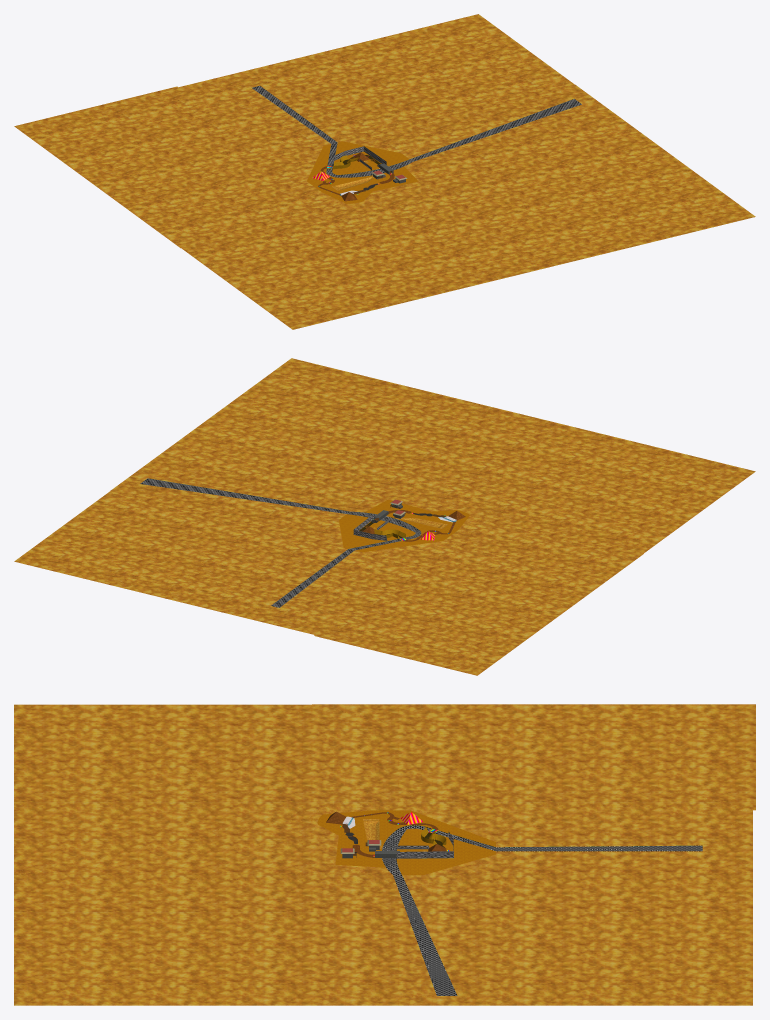
The picture shows the model from 3 angles, top to bottom: view 1: azimuth 30°, elevation 25°; view 2: azimuth 150°, elevation 25°; view 3: azimuth 270°, elevation 25°; orthographic projection. The views are drawn at different scales.
Parts seen in each view (by area): view 1: Mein_Haus_Main-solid_fall, Mein_Haus_Main-offroad_sand, Mein_Haus_Main-fall_boundary_water; view 2: Mein_Haus_Main-solid_fall, Mein_Haus_Main-offroad_sand, Mein_Haus_Main-fall_boundary_water; view 3: Mein_Haus_Main-solid_fall, Mein_Haus_Main-offroad_sand, Mein_Haus_Main-fall_boundary_water, Mein_Haus_Main-Metall_Verkleidung, Mein_Haus_Main-zaunkkp.
Part boxes in pixels (x1=…): Mein_Haus_Main-solid_fall: x1=14, y1=14, x2=755, y2=329; Mein_Haus_Main-offroad_sand: x1=307, y1=141, x2=418, y2=203; Mein_Haus_Main-fall_boundary_water: x1=252, y1=86, x2=581, y2=177; Mein_Haus_Main-solid_fall: x1=14, y1=358, x2=755, y2=675; Mein_Haus_Main-offroad_sand: x1=339, y1=499, x2=469, y2=552; Mein_Haus_Main-fall_boundary_water: x1=140, y1=478, x2=421, y2=607; Mein_Haus_Main-solid_fall: x1=14, y1=704, x2=755, y2=1005; Mein_Haus_Main-offroad_sand: x1=317, y1=810, x2=495, y2=875; Mein_Haus_Main-fall_boundary_water: x1=382, y1=825, x2=702, y2=995; Mein_Haus_Main-Metall_Verkleidung: x1=326, y1=811, x2=446, y2=857; Mein_Haus_Main-zaunkkp: x1=396, y1=831, x2=453, y2=858.
Bounding box in the file's own units: 741137 × 14256 × 770616.
Materials: 33 (33 with a texture image).
